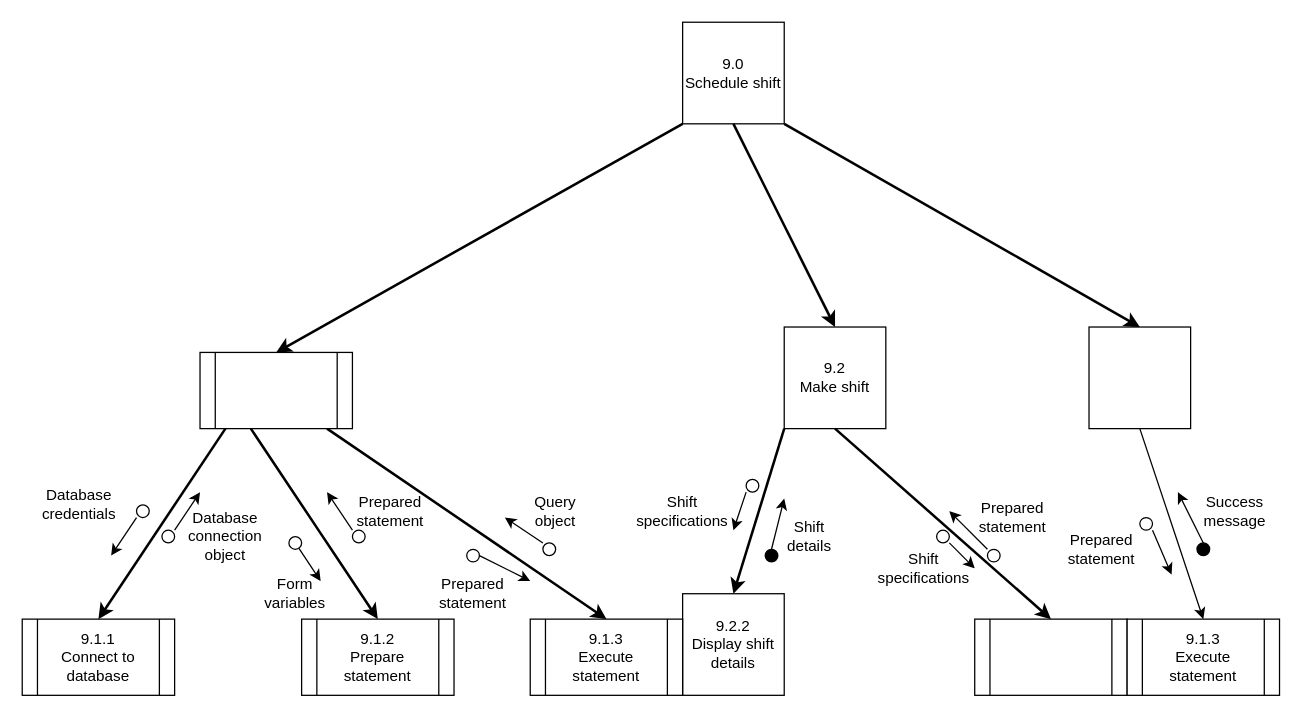
Image size: 1302x718. Some labels were removed from this diagram. Each missing label, with the centre of its shape:
9.1 Query database: the point at 275,390
9.2.1 Prepare statement: the point at 1050,656
9.3 Commit to database: the point at 1139,377
